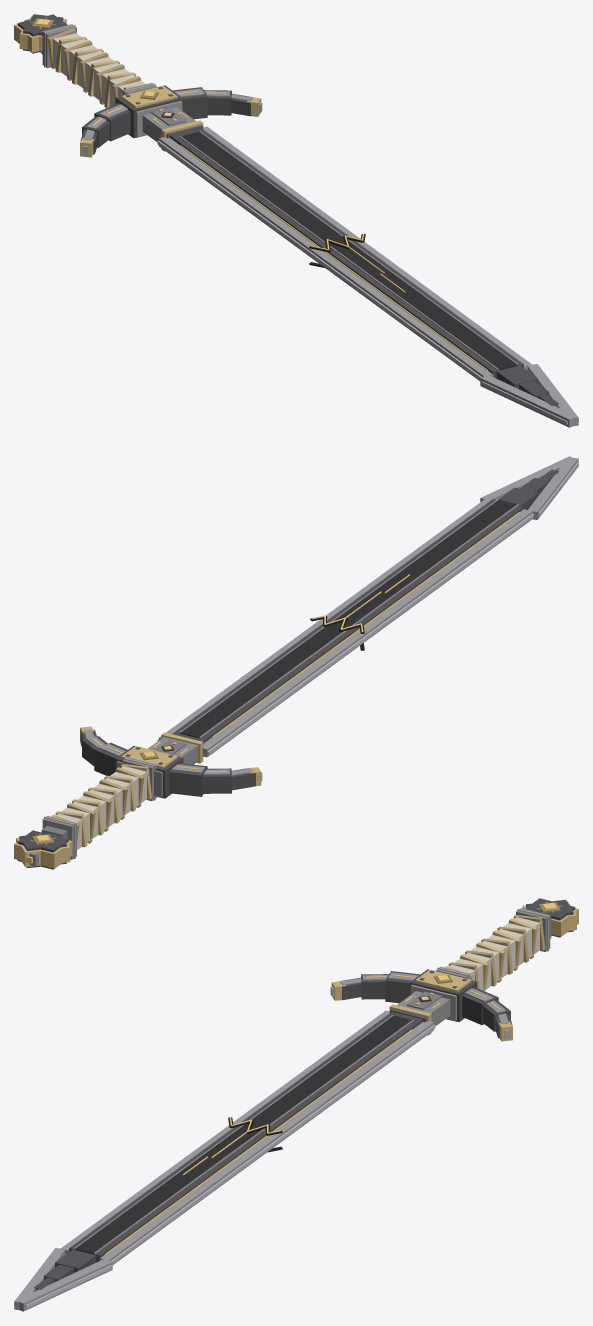
The model's file is sword.glb.
3 renders of one model, top to bottom at view 1: azimuth 30°, elevation 25°; view 2: azimuth 150°, elevation 25°; view 3: azimuth 330°, elevation 25°, orthographic.
Parts seen in each view (by area): view 1: fuller, bevel, blade core, grip, bevel.001, honed edge, point bevel, fuller rim, point bevel.001, charge line, fuller rim.001, ricasso (+6 smaller); view 2: fuller, bevel, blade core, grip, bevel.001, honed edge, quillon, fuller rim, point bevel, charge line, fuller rim.001, point bevel.001 (+3 smaller); view 3: fuller, bevel.001, blade core, grip, bevel, honed edge.001, point bevel.001, fuller rim.001, point bevel, charge line.002, fuller rim, ricasso (+6 smaller).
Part boxes in pixels (bbox=[...]): fuller: bbox=[181, 132, 517, 370]; bevel: bbox=[159, 137, 493, 380]; blade core: bbox=[170, 128, 523, 378]; grip: bbox=[50, 33, 145, 106]; bevel.001: bbox=[203, 126, 531, 370]; honed edge: bbox=[157, 141, 481, 379]; point bevel: bbox=[480, 375, 576, 427]; fuller rim: bbox=[179, 136, 498, 370]; point bevel.001: bbox=[527, 364, 578, 426]; charge line: bbox=[180, 145, 488, 371]; fuller rim.001: bbox=[199, 131, 518, 365]; ricasso: bbox=[142, 107, 195, 142]; fuller: bbox=[180, 499, 516, 738]; bevel: bbox=[202, 509, 532, 757]; blade core: bbox=[172, 499, 523, 743]; grip: bbox=[56, 766, 148, 849]; bevel.001: bbox=[159, 499, 489, 739]; honed edge: bbox=[207, 513, 533, 755]; quillon: bbox=[169, 763, 207, 796]; fuller rim: bbox=[199, 504, 518, 738]; point bevel: bbox=[527, 457, 578, 519]; charge line: bbox=[212, 512, 520, 737]; fuller rim.001: bbox=[179, 499, 498, 733]; point bevel.001: bbox=[480, 456, 573, 501]; fuller: bbox=[75, 1015, 411, 1254]; bevel.001: bbox=[99, 1021, 433, 1264]; blade core: bbox=[69, 1012, 422, 1262]; grip: bbox=[449, 917, 542, 990]; bevel: bbox=[61, 1010, 389, 1254]; honed edge.001: bbox=[111, 1024, 435, 1263]; point bevel.001: bbox=[19, 1259, 112, 1311]; fuller rim.001: bbox=[94, 1020, 413, 1254]; point bevel: bbox=[14, 1248, 65, 1309]; charge line.002: bbox=[104, 1029, 412, 1254]; fuller rim: bbox=[74, 1015, 393, 1249]; ricasso: bbox=[397, 991, 450, 1026].
Size of the model in its own units: 0.233 by 0.0446 by 1.22.
